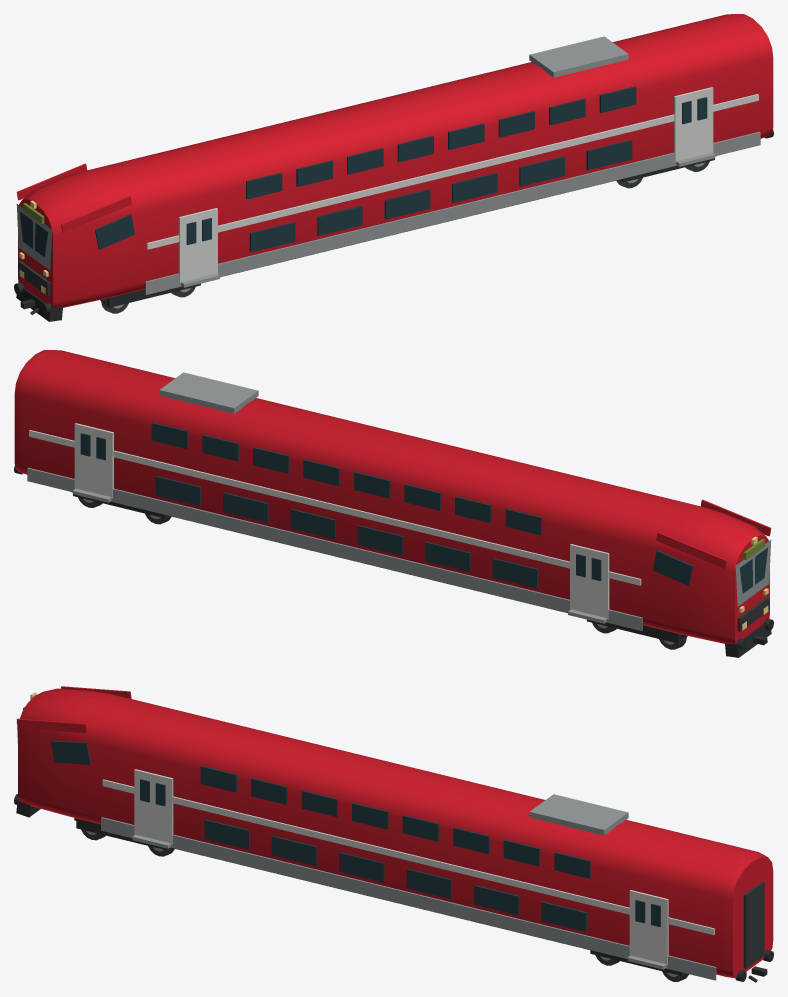
File: db-regional-express-driving-trailer.glb
The picture shows the model from 3 angles, top to bottom: view 1: azimuth 30°, elevation 25°; view 2: azimuth 150°, elevation 25°; view 3: azimuth 330°, elevation 25°; orthographic projection.
Visible parts, largest first — view 1: driving_trailer_double_deck_body, driving_trailer_lower_skirt_-1, driving_trailer_white_belt_-1, driving_trailer_roof_hvac_1, driving_trailer_door_-1_1, driving_trailer_door_-1_0, driving_trailer_lower_window_-1_0, driving_trailer_lower_window_-1_2, driving_trailer_lower_window_-1_5, driving_trailer_lower_window_-1_3, driving_trailer_lower_window_-1_4, driving_trailer_lower_window_-1_1 (+12 smaller); view 2: driving_trailer_double_deck_body, driving_trailer_lower_skirt_1, driving_trailer_white_belt_1, driving_trailer_roof_hvac_1, driving_trailer_door_1_1, driving_trailer_door_1_0, driving_trailer_lower_window_1_0, driving_trailer_lower_window_1_2, driving_trailer_lower_window_1_5, driving_trailer_lower_window_1_3, driving_trailer_lower_window_1_4, driving_trailer_lower_window_1_1 (+14 smaller); view 3: driving_trailer_double_deck_body, driving_trailer_lower_skirt_-1, driving_trailer_white_belt_-1, driving_trailer_roof_hvac_1, driving_trailer_door_-1_0, driving_trailer_door_-1_1, driving_trailer_gangway, driving_trailer_lower_window_-1_1, driving_trailer_lower_window_-1_2, driving_trailer_lower_window_-1_5, driving_trailer_lower_window_-1_0, driving_trailer_lower_window_-1_3 (+11 smaller).
Part boxes in pixels (bbox=[...]): driving_trailer_double_deck_body: bbox=[18, 14, 773, 308]; driving_trailer_lower_skirt_-1: bbox=[145, 131, 760, 294]; driving_trailer_white_belt_-1: bbox=[146, 94, 758, 249]; driving_trailer_roof_hvac_1: bbox=[529, 36, 628, 77]; driving_trailer_door_-1_1: bbox=[674, 87, 713, 162]; driving_trailer_door_-1_0: bbox=[178, 208, 217, 283]; driving_trailer_lower_window_-1_0: bbox=[249, 222, 295, 252]; driving_trailer_lower_window_-1_2: bbox=[384, 189, 430, 219]; driving_trailer_lower_window_-1_5: bbox=[586, 140, 632, 169]; driving_trailer_lower_window_-1_3: bbox=[452, 172, 497, 202]; driving_trailer_lower_window_-1_4: bbox=[519, 156, 564, 186]; driving_trailer_lower_window_-1_1: bbox=[317, 205, 362, 235]; driving_trailer_double_deck_body: bbox=[14, 350, 769, 644]; driving_trailer_lower_skirt_1: bbox=[27, 467, 642, 630]; driving_trailer_white_belt_1: bbox=[29, 430, 641, 585]; driving_trailer_roof_hvac_1: bbox=[159, 372, 258, 413]; driving_trailer_door_1_1: bbox=[74, 423, 113, 498]; driving_trailer_door_1_0: bbox=[570, 544, 609, 619]; driving_trailer_lower_window_1_0: bbox=[492, 558, 538, 588]; driving_trailer_lower_window_1_2: bbox=[357, 525, 403, 555]; driving_trailer_lower_window_1_5: bbox=[155, 476, 201, 505]; driving_trailer_lower_window_1_3: bbox=[290, 508, 335, 538]; driving_trailer_lower_window_1_4: bbox=[223, 492, 268, 522]; driving_trailer_lower_window_1_1: bbox=[425, 541, 470, 571]; driving_trailer_double_deck_body: bbox=[18, 688, 773, 978]; driving_trailer_lower_skirt_-1: bbox=[101, 817, 716, 980]; driving_trailer_white_belt_-1: bbox=[102, 779, 714, 935]; driving_trailer_roof_hvac_1: bbox=[529, 794, 628, 835]; driving_trailer_door_-1_0: bbox=[134, 769, 173, 844]; driving_trailer_door_-1_1: bbox=[629, 890, 668, 965]; driving_trailer_gangway: bbox=[743, 881, 764, 968]; driving_trailer_lower_window_-1_1: bbox=[271, 835, 317, 865]; driving_trailer_lower_window_-1_2: bbox=[339, 852, 384, 882]; driving_trailer_lower_window_-1_5: bbox=[541, 901, 586, 931]; driving_trailer_lower_window_-1_0: bbox=[204, 819, 249, 849]; driving_trailer_lower_window_-1_3: bbox=[406, 868, 451, 898].
Bounding box in the file's own units: 27.76 × 4.82 × 3.35.
